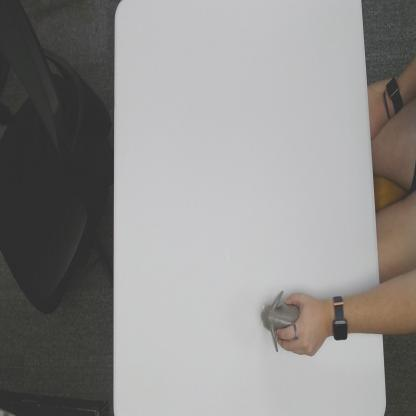Arm: (347, 285, 382, 335)
Elephant: (260, 288, 300, 352)
Hand: (275, 290, 329, 358)
